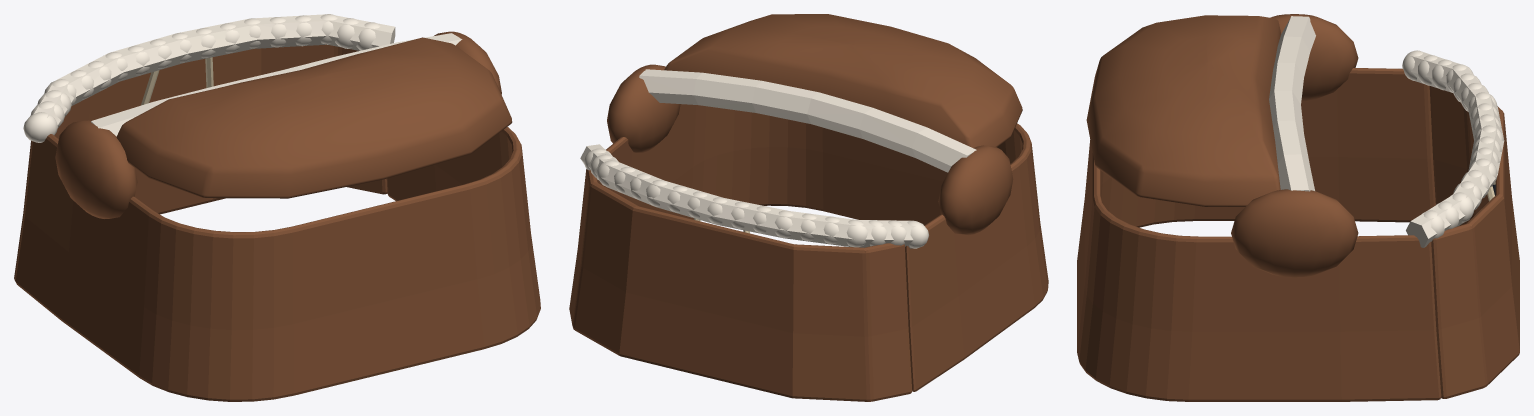
File: coat.fbx
3 views of the same model, side by side, from view 1: azimuth 30°, elevation 25°; view 2: azimuth 150°, elevation 25°; view 3: azimuth 270°, elevation 25° (orthographic). The views are drawn at different scales.
Visible parts, largest first — view 1: coat_armor; view 2: coat_armor; view 3: coat_armor.
Boxes of the visible parts, x1,y1,x2,y2 form: coat_armor: (14, 14, 540, 401); coat_armor: (569, 14, 1048, 401); coat_armor: (1077, 14, 1519, 401).
Size of the model in its own units: 4.52 by 2.6 by 4.24.
Materials: 1 (1 with a texture image).
